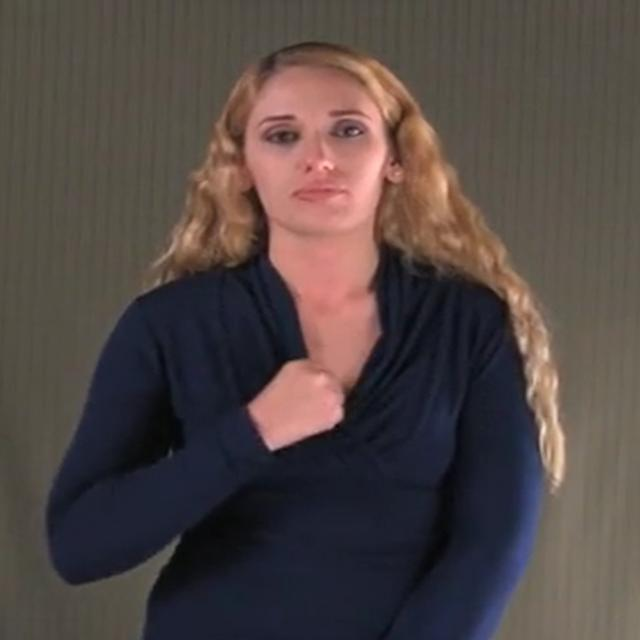sorry: (249, 359, 345, 444)
